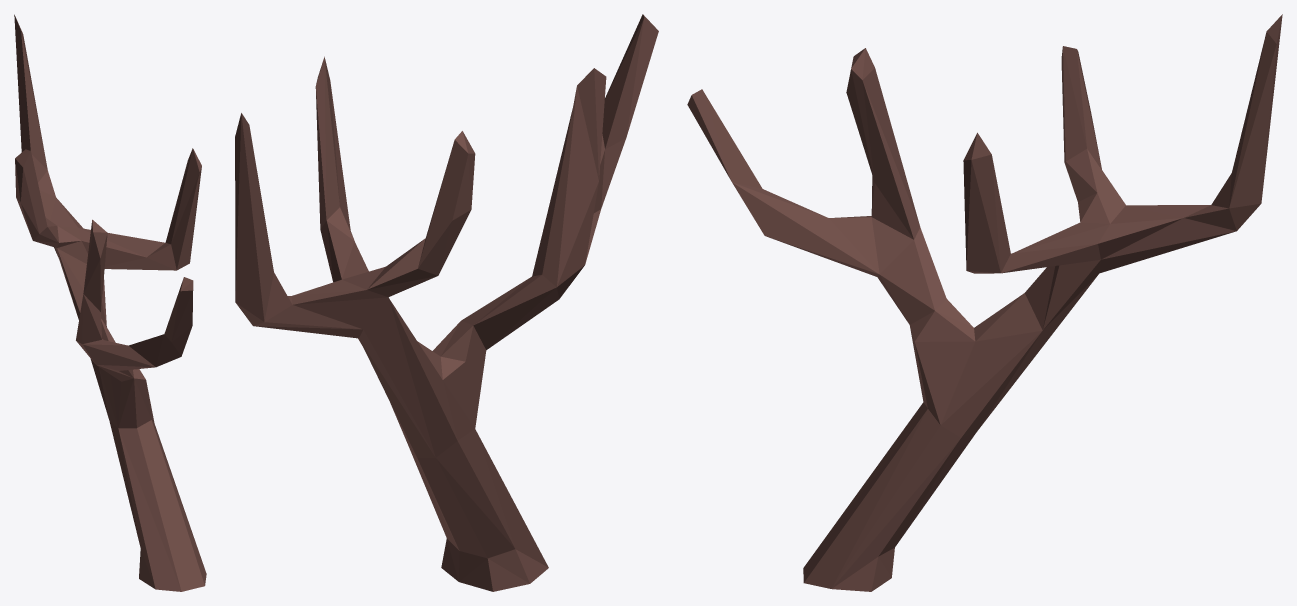
File: Willow_Dead_4.lod2.glb
The picture shows the model from 3 angles, left to right: view 1: azimuth 30°, elevation 25°; view 2: azimuth 150°, elevation 25°; view 3: azimuth 270°, elevation 25°; orthographic projection. The views are drawn at different scales.
Visible parts, largest first — view 1: Willow_Dead_4; view 2: Willow_Dead_4; view 3: Willow_Dead_4.
Boxes of the visible parts, left/top/right/bottom form: Willow_Dead_4: left=14, top=14, right=206, bottom=591; Willow_Dead_4: left=235, top=14, right=658, bottom=591; Willow_Dead_4: left=687, top=14, right=1282, bottom=591.
Size of the model in its own units: 1.02 by 2.72 by 2.59.
